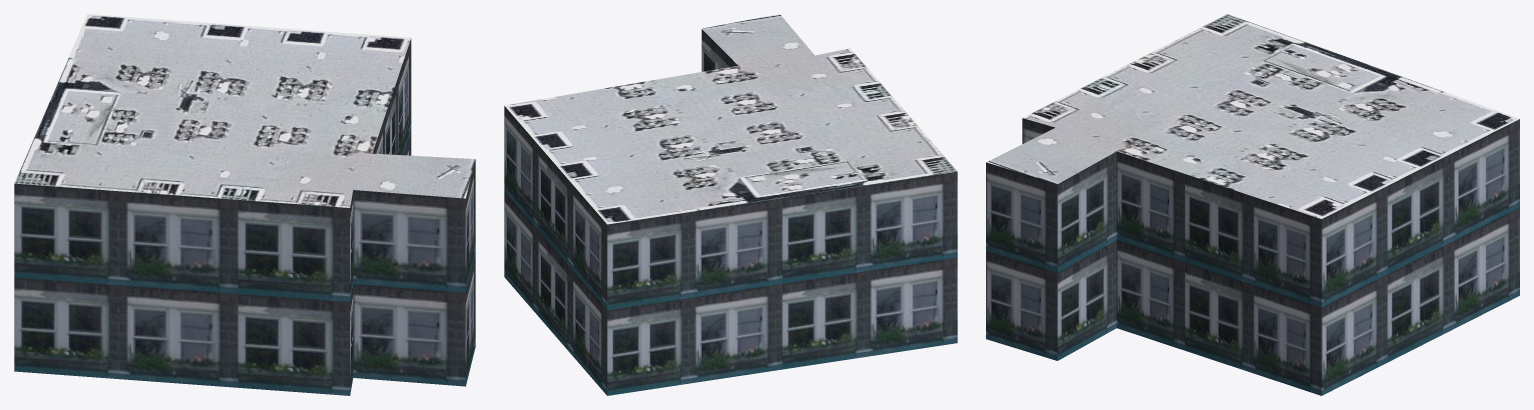
Rendered from ResTex__1874.fbx.
3 renders of one model, left to right at view 1: azimuth 30°, elevation 25°; view 2: azimuth 150°, elevation 25°; view 3: azimuth 270°, elevation 25°, orthographic. The views are drawn at different scales.
Parts seen in each view (by area): view 1: CityEngineMaterial_11_m, CityEngineMaterial_4_m; view 2: CityEngineMaterial_11_m, CityEngineMaterial_4_m; view 3: CityEngineMaterial_11_m, CityEngineMaterial_4_m.
Boxes of the visible parts, left/top/right/bottom form: CityEngineMaterial_11_m: left=14, top=38, right=475, bottom=395; CityEngineMaterial_4_m: left=14, top=14, right=475, bottom=207; CityEngineMaterial_11_m: left=504, top=29, right=957, bottom=395; CityEngineMaterial_4_m: left=504, top=14, right=957, bottom=224; CityEngineMaterial_11_m: left=986, top=118, right=1519, bottom=395; CityEngineMaterial_4_m: left=986, top=14, right=1519, bottom=218.
Size of the model in its own units: 14.93 by 6 by 16.42.
Materials: 2 (2 with a texture image).
